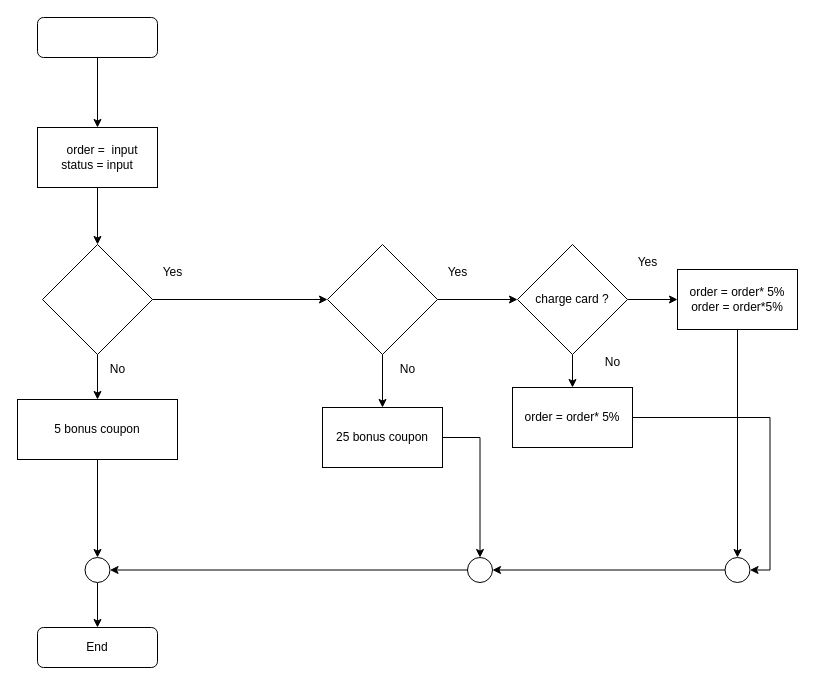
Some shapes in this 815 by 685 pixel diagram are drawn without their labels. Here are the shapes that lost their labels. From the top down, the box of each, then its label:
(36, 16, 158, 58): Start
(42, 244, 152, 354): Preferred ?
(326, 244, 438, 354): order > 1000 ?
